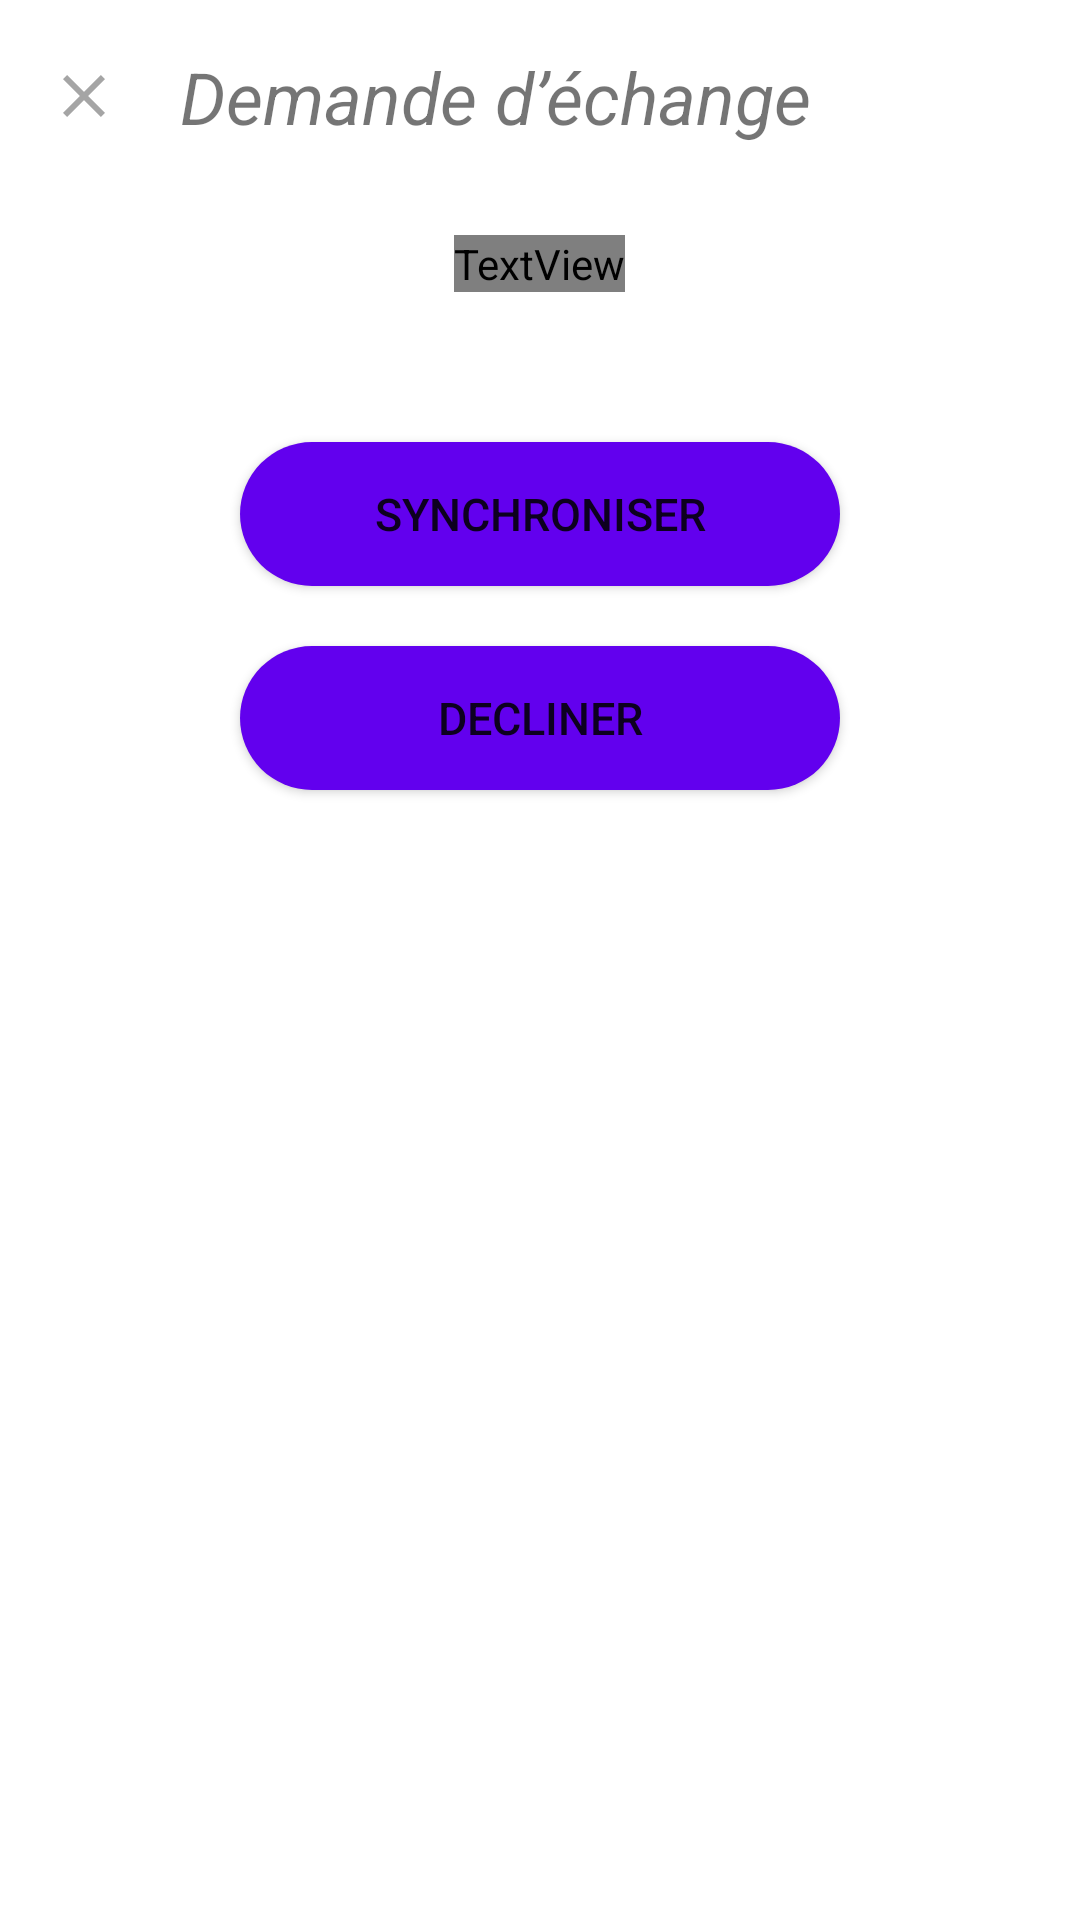

Icon click points for this 1080px x 1920px phone screenshot, format (x,y):
close: (84,96)
